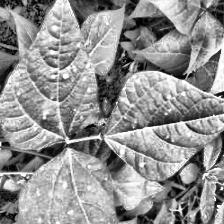Bean Rust: (0, 0, 99, 147), (103, 71, 224, 174), (18, 149, 122, 224)
